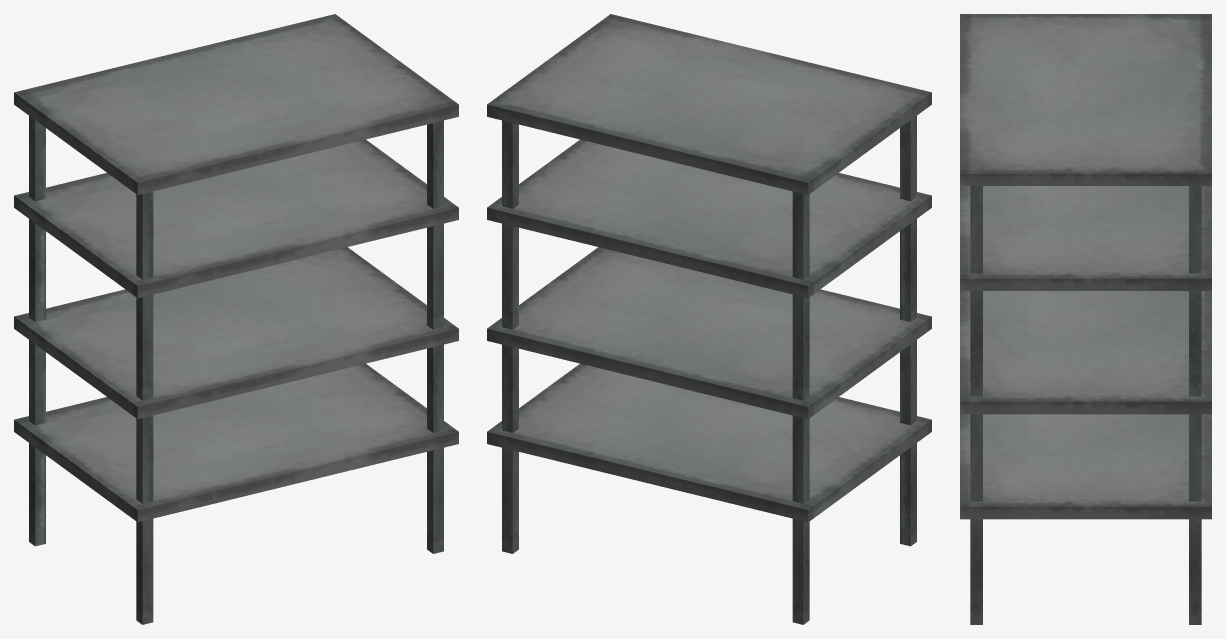
Rendered from MESH_PRATELEIRA.fbx.
The picture shows the model from 3 angles, left to right: view 1: azimuth 30°, elevation 25°; view 2: azimuth 150°, elevation 25°; view 3: azimuth 270°, elevation 25°; orthographic projection.
Parts seen in each view (by area): view 1: MESH_PRATELEIRA; view 2: MESH_PRATELEIRA; view 3: MESH_PRATELEIRA.
Part boxes in pixels (x1,y1,x2,y2): MESH_PRATELEIRA: [14, 14, 458, 624]; MESH_PRATELEIRA: [487, 14, 931, 624]; MESH_PRATELEIRA: [960, 14, 1211, 624].
Bounding box in the file's own units: 1.5 × 2 × 1.
